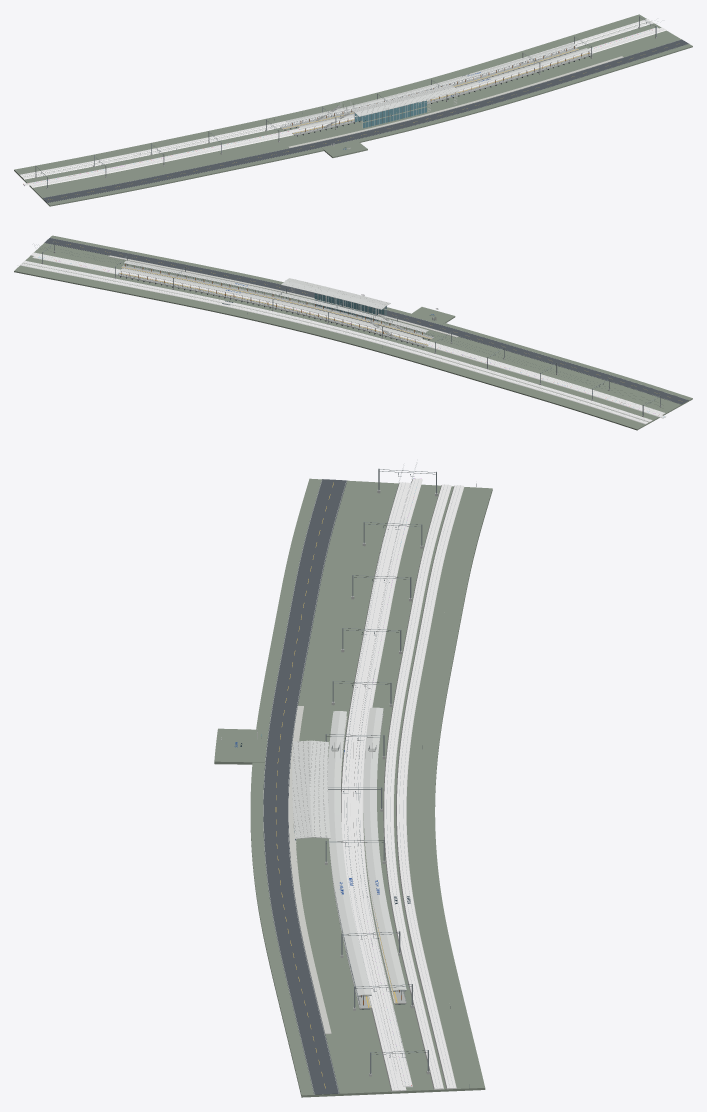
3 renders of one model, top to bottom at view 1: azimuth 30°, elevation 25°; view 2: azimuth 150°, elevation 25°; view 3: azimuth 270°, elevation 25°, orthographic. The views are drawn at different scales.
Parts seen in each view (by area): view 1: 460m 基地, 站前道路, 既有東線_示意 道碴床, 東正線 道碴床, 既有西線_示意 道碴床, 2月台金屬雨棚.001, 西正線 道碴床, 大廳銀白金屬屋頂, 大廳藍綠玻璃, 人行道, 1月台板, 2月台板.001 (+3 smaller); view 2: 460m 基地, 站前道路, 既有西線_示意 道碴床, 既有東線_示意 道碴床, 西正線 道碴床, 東正線 道碴床, 1月台金屬雨棚, 2月台金屬雨棚.001, 1月台板, 2月台板.001, 大廳銀白金屬屋頂, 兩正線間連續道碴 (+3 smaller); view 3: 460m 基地, 站前道路, 既有西線_示意 道碴床, 既有東線_示意 道碴床, 西正線 道碴床, 東正線 道碴床, 2月台金屬雨棚.001, 1月台金屬雨棚, 大廳銀白金屬屋頂, 兩正線間連續道碴, 人行道, 公務所基地延伸 (+2 smaller).
Part boxes in pixels (x1,y1,x2,y2): 460m 基地: (14,14,692,206); 站前道路: (43,39,688,202); 既有東線_示意 道碴床: (22,21,653,179); 東正線 道碴床: (30,28,666,187); 既有西線_示意 道碴床: (20,19,650,176); 2月台金屬雨棚.001: (286,43,576,123); 西正線 道碴床: (23,27,659,186); 大廳銀白金屬屋頂: (351,84,459,116); 大廳藍綠玻璃: (355,100,426,128); 人行道: (288,56,623,148); 1月台板: (292,52,592,135); 2月台板.001: (280,47,579,129); 460m 基地: (14,235,692,430); 站前道路: (44,238,688,404); 既有西線_示意 道碴床: (20,263,648,424); 既有東線_示意 道碴床: (22,260,652,422); 西正線 道碴床: (32,255,665,418); 東正線 道碴床: (32,252,665,414); 1月台金屬雨棚: (124,260,428,332); 2月台金屬雨棚.001: (120,268,422,340); 1月台板: (121,265,434,339); 2月台板.001: (117,273,428,347); 大廳銀白金屬屋頂: (281,278,390,309); 兩正線間連續道碴: (30,254,662,415); 460m 基地: (250,478,492,1097); 站前道路: (263,479,347,1094); 既有西線_示意 道碴床: (396,485,464,1089); 既有東線_示意 道碴床: (383,484,451,1089); 西正線 道碴床: (353,478,422,1087); 東正線 道碴床: (341,482,408,1091); 2月台金屬雨棚.001: (363,707,406,990); 1月台金屬雨棚: (328,711,371,995); 大廳銀白金屬屋頂: (292,740,330,839); 兩正線間連續道碴: (350,483,411,1090); 人行道: (288,706,331,1034); 公務所基地延伸: (214,728,268,764).
Bounding box in the file's own units: 465 × 14.12 × 87.44.
